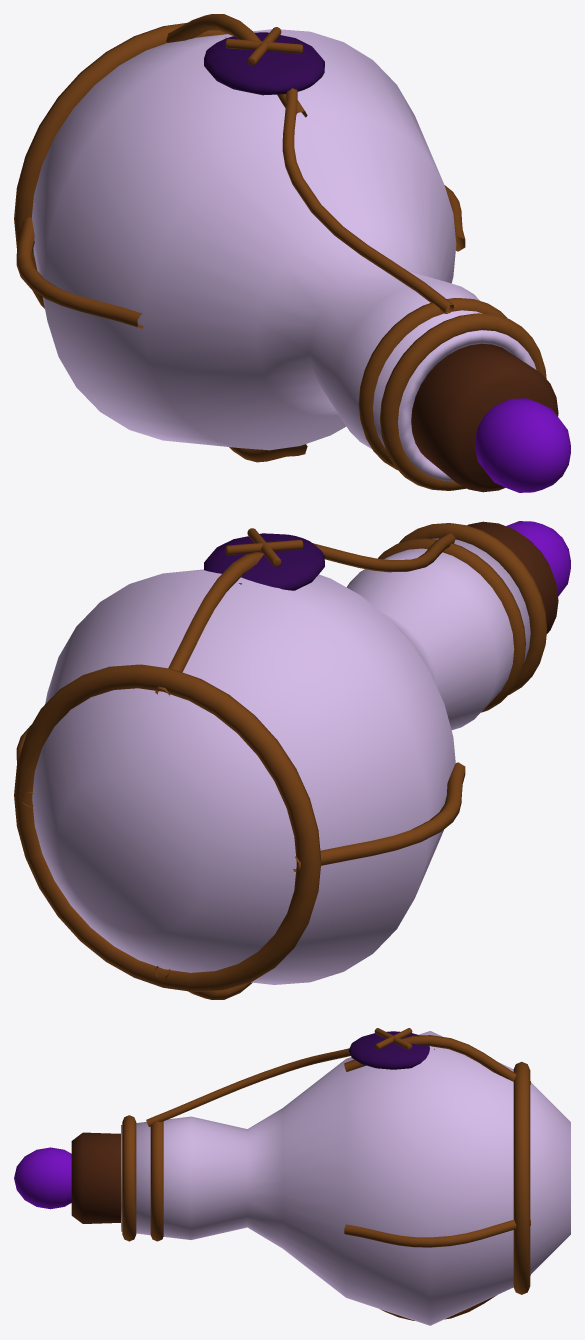
The model's file is Potion_Purple.obj.
The picture shows the model from 3 angles, top to bottom: view 1: azimuth 30°, elevation 25°; view 2: azimuth 150°, elevation 25°; view 3: azimuth 270°, elevation 25°; orthographic projection. The views are drawn at different scales.
Visible parts, largest first — view 1: Thick_Walled_Purple_Bottle, Cork_Stopper, Stopper_Amethyst, Neck_Brass_Ring.001, Base_Metal_Trim, Wax_Seal, Seal_Cord, Neck_Brass_Ring, Arcane_Cage_Rib, Arcane_Cage_Rib.003, Arcane_Cage_Rib.001, Seal_Rune.001; view 2: Thick_Walled_Purple_Bottle, Base_Metal_Trim, Neck_Brass_Ring.001, Wax_Seal, Arcane_Cage_Rib, Neck_Brass_Ring, Cork_Stopper, Arcane_Cage_Rib.003, Seal_Cord, Stopper_Amethyst, Seal_Rune; view 3: Thick_Walled_Purple_Bottle, Cork_Stopper, Base_Metal_Trim, Stopper_Amethyst, Wax_Seal, Arcane_Cage_Rib.002, Neck_Brass_Ring.001, Seal_Cord, Neck_Brass_Ring, Arcane_Cage_Rib.003.
Boxes of the visible parts, bbox=[...] form: Thick_Walled_Purple_Bottle: bbox=[32, 29, 536, 481]; Cork_Stopper: bbox=[411, 343, 558, 492]; Stopper_Amethyst: bbox=[475, 398, 570, 492]; Neck_Brass_Ring.001: bbox=[380, 313, 546, 490]; Base_Metal_Trim: bbox=[14, 22, 227, 308]; Wax_Seal: bbox=[204, 32, 324, 95]; Seal_Cord: bbox=[282, 88, 453, 313]; Neck_Brass_Ring: bbox=[358, 298, 507, 469]; Arcane_Cage_Rib: bbox=[16, 217, 143, 328]; Arcane_Cage_Rib.003: bbox=[166, 14, 307, 117]; Arcane_Cage_Rib.001: bbox=[229, 444, 307, 462]; Seal_Rune.001: bbox=[225, 38, 303, 53]; Thick_Walled_Purple_Bottle: bbox=[32, 538, 530, 984]; Base_Metal_Trim: bbox=[14, 664, 321, 991]; Neck_Brass_Ring.001: bbox=[398, 523, 547, 695]; Wax_Seal: bbox=[204, 533, 324, 590]; Arcane_Cage_Rib: bbox=[293, 762, 465, 871]; Neck_Brass_Ring: bbox=[378, 538, 525, 712]; Cork_Stopper: bbox=[467, 521, 558, 633]; Arcane_Cage_Rib.003: bbox=[155, 552, 263, 695]; Seal_Cord: bbox=[313, 533, 455, 572]; Stopper_Amethyst: bbox=[506, 521, 570, 596]; Seal_Rune: bbox=[225, 539, 303, 555]; Thick_Walled_Purple_Bottle: bbox=[121, 1031, 570, 1325]; Cork_Stopper: bbox=[71, 1132, 120, 1223]; Base_Metal_Trim: bbox=[513, 1061, 530, 1294]; Stopper_Amethyst: bbox=[14, 1147, 71, 1209]; Wax_Seal: bbox=[348, 1031, 434, 1069]; Arcane_Cage_Rib.002: bbox=[344, 1219, 530, 1247]; Neck_Brass_Ring.001: bbox=[122, 1115, 136, 1241]; Seal_Cord: bbox=[146, 1048, 350, 1126]; Neck_Brass_Ring: bbox=[150, 1121, 163, 1241]; Arcane_Cage_Rib.003: bbox=[344, 1035, 530, 1084].
Size of the model in its own units: 0.2229 by 0.223 by 0.396.
